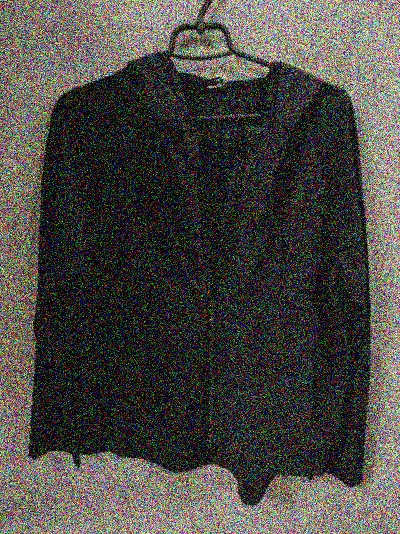Hoodie: (9, 39, 400, 510)
